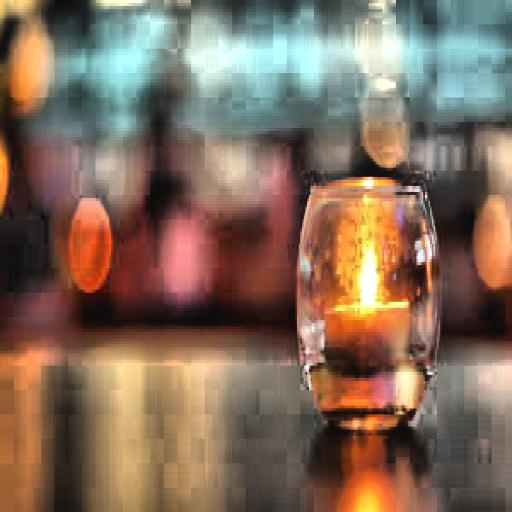fire: (350, 232, 382, 310)
